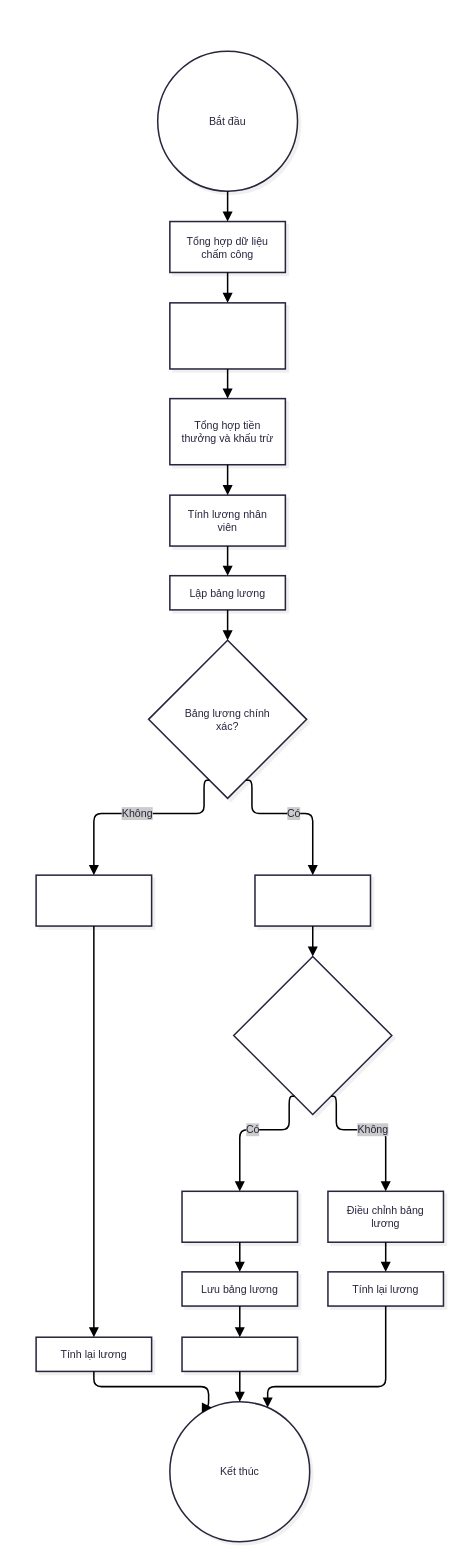
This 460x1558 diagram has some shape labels left out. Here are the shapes that lost their labels. From the top down, the centre of each, then its label:
At [229,337]: "Tổng hợp thông tin lương và phụ cấp".
At [95,901]: "Kiểm tra và điều chỉnh dữ liệu".
At [314,901]: "Trình Giám đốc xác nhận".
At [314,1036]: "Được xác nhận?".
At [241,1218]: "Hoàn tất bảng lương".
At [241,1355]: "Lập phiếu lương".
